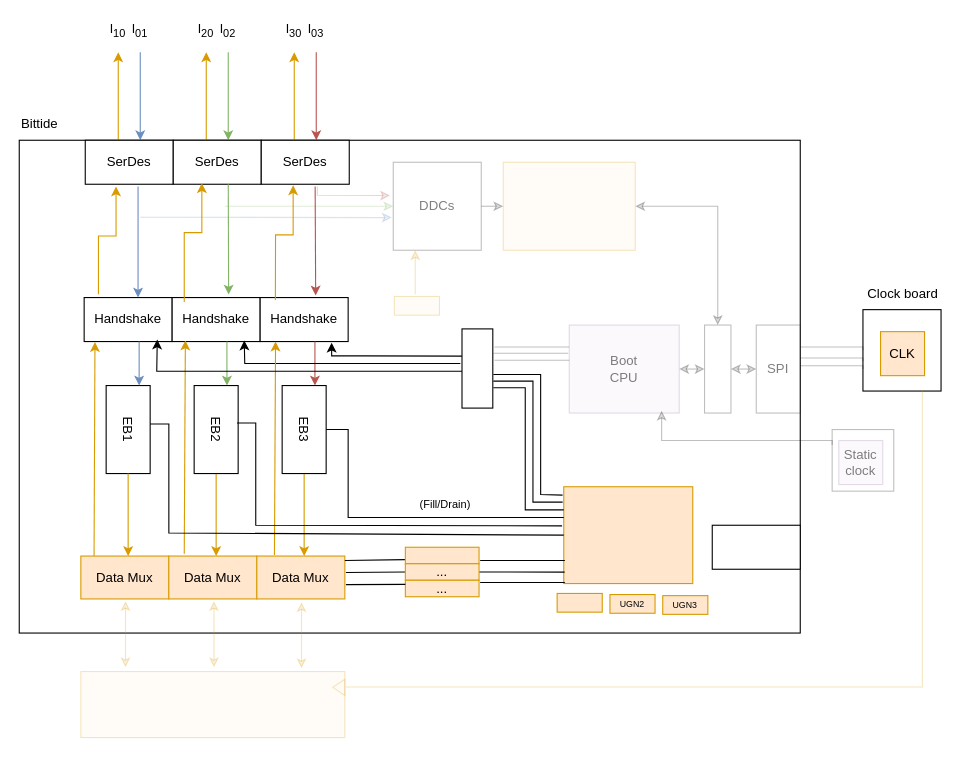
Some shapes in this 964 by 757 pixel diagram are drawn without their labels. Each missing label, with the centre of its shape:
Bus Mux: pixel 477 368
Clock Control CPU: pixel 568 205
JTAG (to all CPUs): pixel 755 546
Local Counter: pixel 416 305
Management Unit CPU: pixel 628 535
Processing Element: pixel 212 704
RingBuffer (s): pixel 441 555
Select Manager: pixel 717 368
UGN1: pixel 579 602
